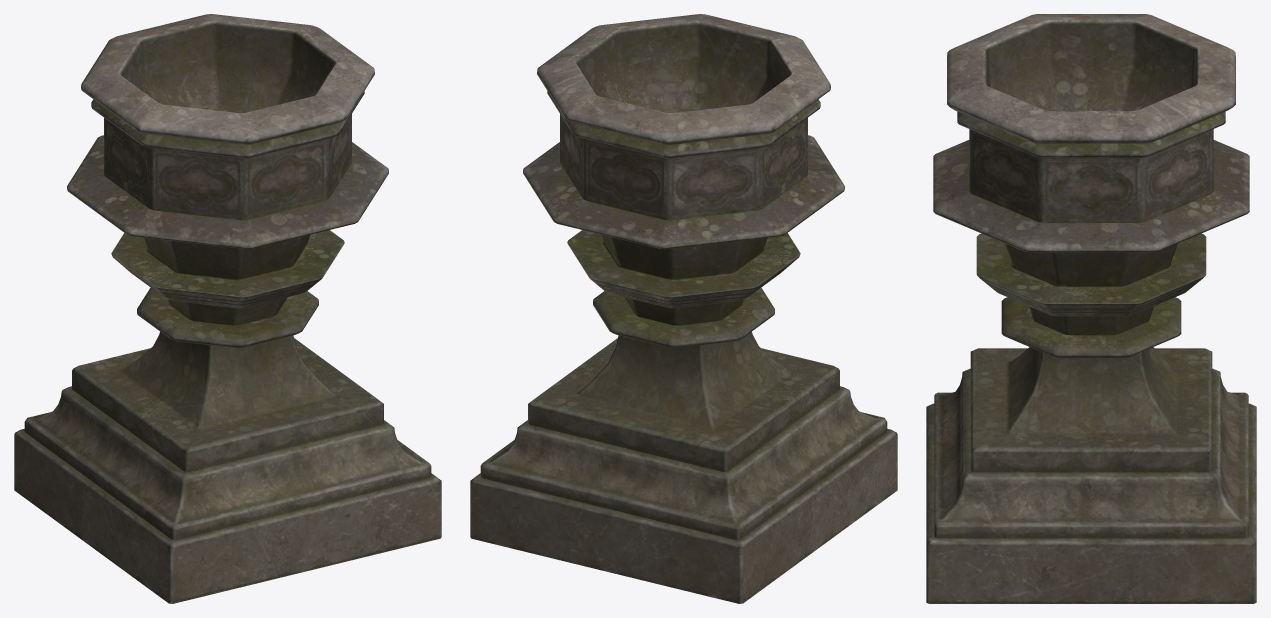
Rendered from SM_UrnA.fbx.
3 renders of one model, left to right at view 1: azimuth 30°, elevation 25°; view 2: azimuth 150°, elevation 25°; view 3: azimuth 270°, elevation 25°, orthographic. The views are drawn at different scales.
Visible parts, largest first — view 1: SM_UrnA_LOD0; view 2: SM_UrnA_LOD0; view 3: SM_UrnA_LOD0.
Part boxes in pixels (x1,y1,x2,y2): SM_UrnA_LOD0: (14,14,441,603); SM_UrnA_LOD0: (470,14,897,603); SM_UrnA_LOD0: (926,14,1256,603).
Bounding box in the file's own units: 63.05 × 63.05 × 98.63.
Materials: 1 (1 with a texture image).
